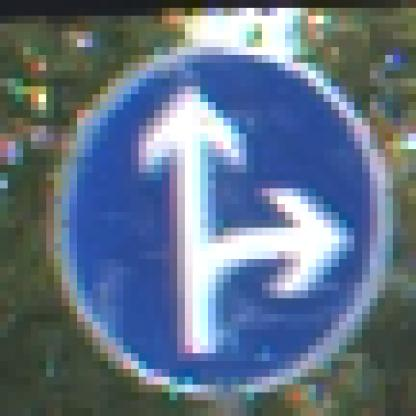Straight or Right: (47, 40, 379, 378)
